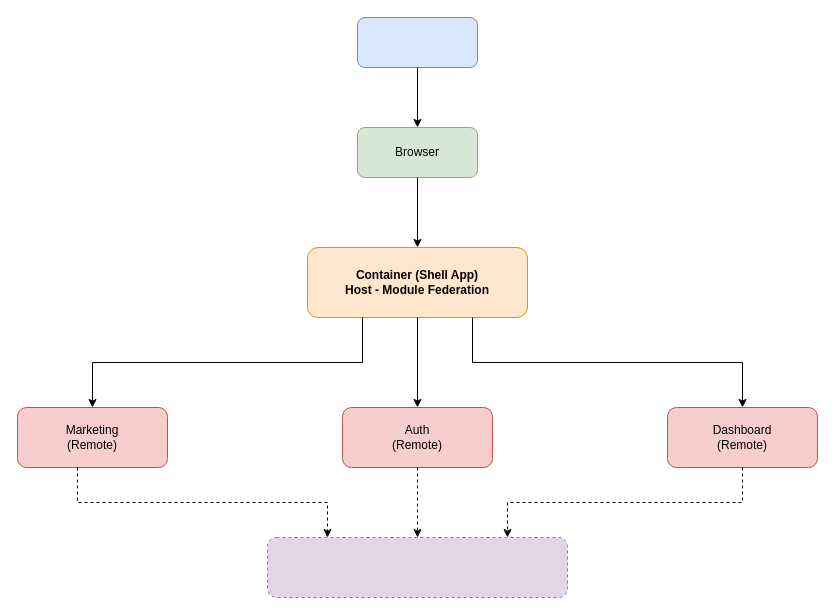
The diagram is 835 pixels wide and 615 high, and some of its shapes have lost their labels. The centre of each missing label's shape, as x and y in pixels:
Shared Libraries (React, Design System, State): the point at 417,567
User: the point at 417,42
